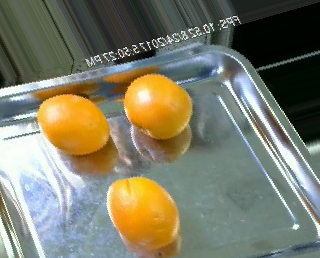Orange: (105, 175, 180, 248), (124, 72, 192, 141), (36, 92, 110, 155)
